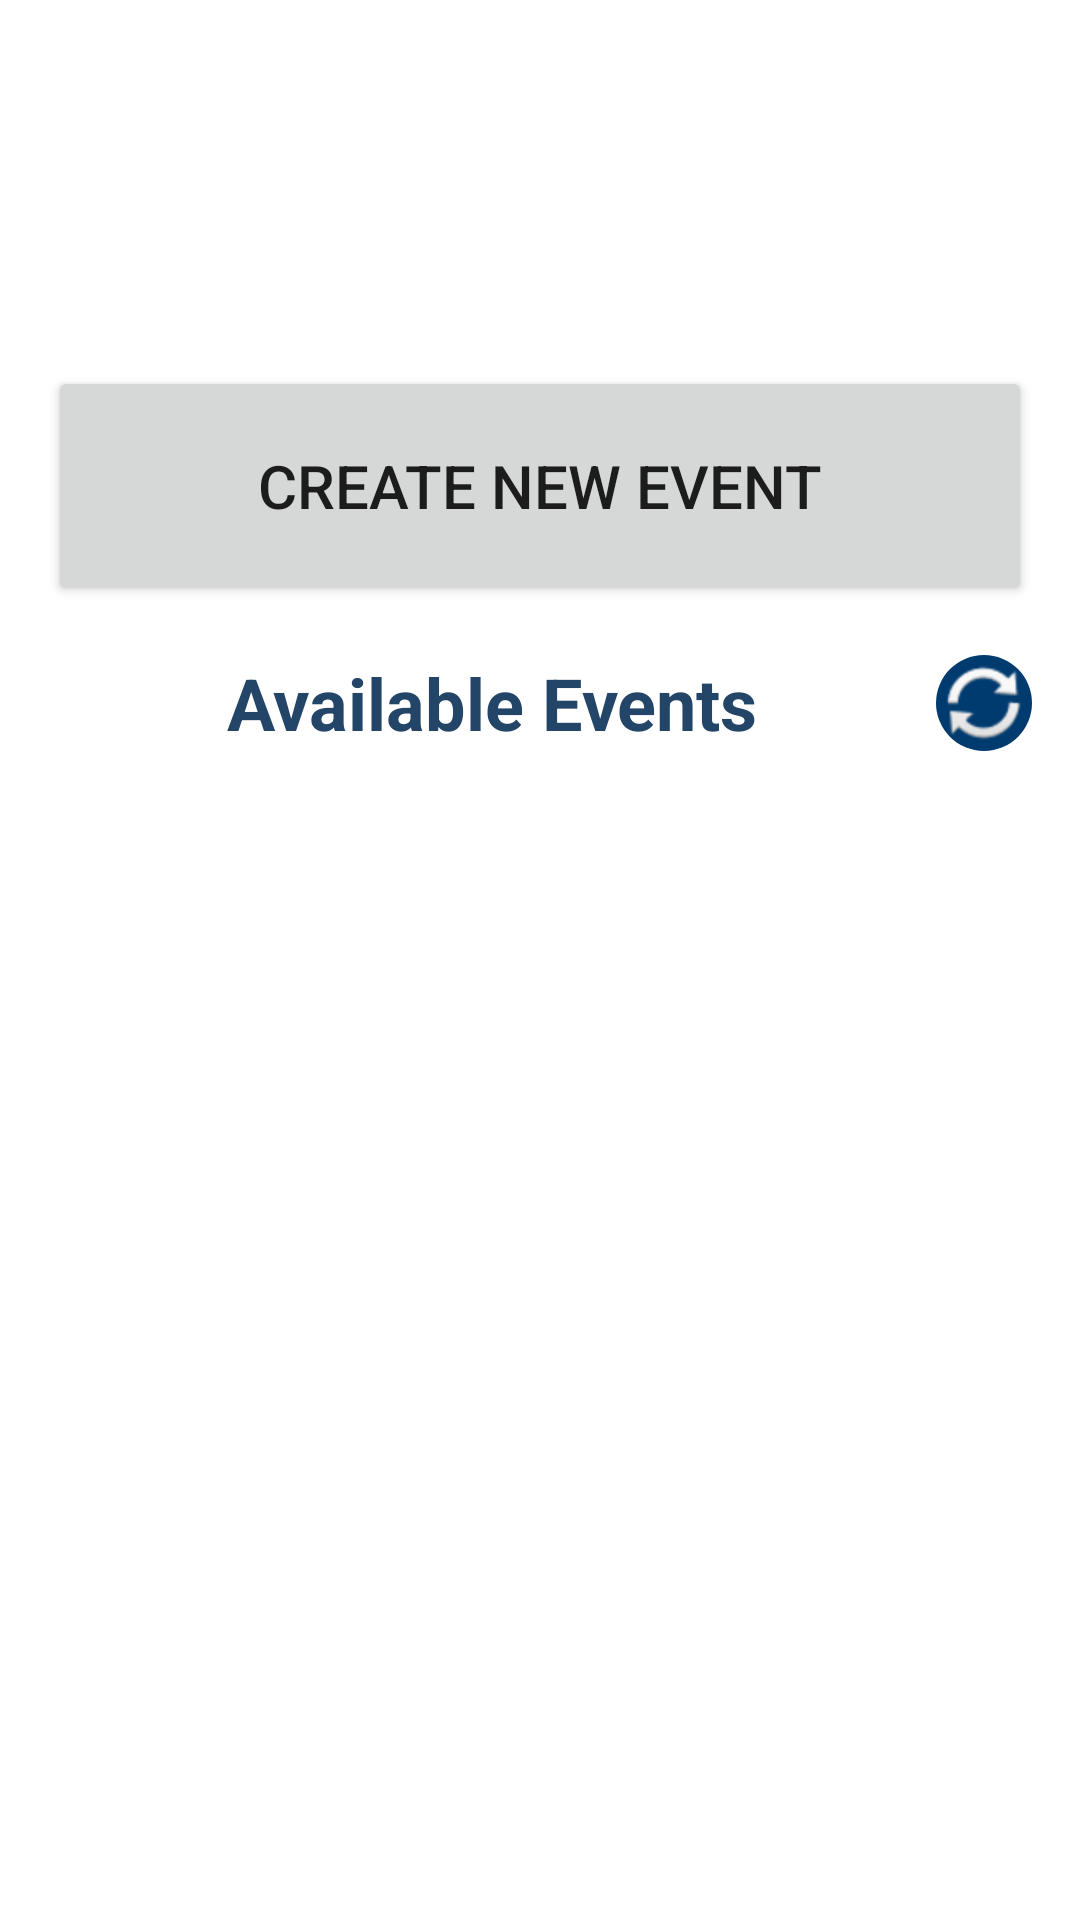

Where icons sit on this 1080x1920 app screen, as (x1, y1, x2, y2):
Refresh: (936, 655, 1032, 751)
